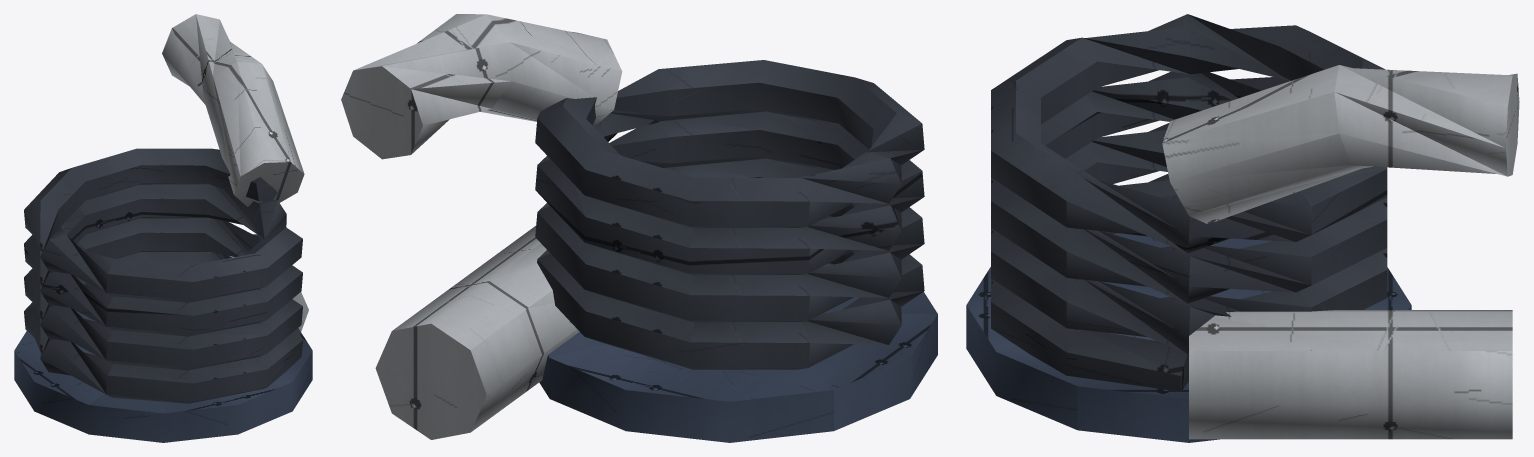
Rendered from coiled_cable.glb.
3 views of the same model, side by side, from view 1: azimuth 30°, elevation 25°; view 2: azimuth 150°, elevation 25°; view 3: azimuth 270°, elevation 25° (orthographic). The views are drawn at different scales.
Visible parts, largest first — view 1: DL016_CoiledCable_rubber_dark, DL016_CoiledCable_titanium, DL016_CoiledCable_graphite_navy; view 2: DL016_CoiledCable_rubber_dark, DL016_CoiledCable_titanium, DL016_CoiledCable_graphite_navy; view 3: DL016_CoiledCable_rubber_dark, DL016_CoiledCable_titanium, DL016_CoiledCable_graphite_navy.
Part boxes in pixels (box(x1,y1,x2,y2)): DL016_CoiledCable_rubber_dark: box(24, 148, 302, 403); DL016_CoiledCable_titanium: box(162, 14, 308, 331); DL016_CoiledCable_graphite_navy: box(14, 311, 312, 442); DL016_CoiledCable_rubber_dark: box(535, 60, 924, 369); DL016_CoiledCable_titanium: box(341, 14, 622, 439); DL016_CoiledCable_graphite_navy: box(539, 264, 937, 442); DL016_CoiledCable_rubber_dark: box(991, 14, 1387, 391); DL016_CoiledCable_titanium: box(1162, 65, 1519, 439); DL016_CoiledCable_graphite_navy: box(966, 233, 1411, 442).
Bounding box in the file's own units: 1.28 × 1.06 × 1.37.
3 materials, 3 textured.
